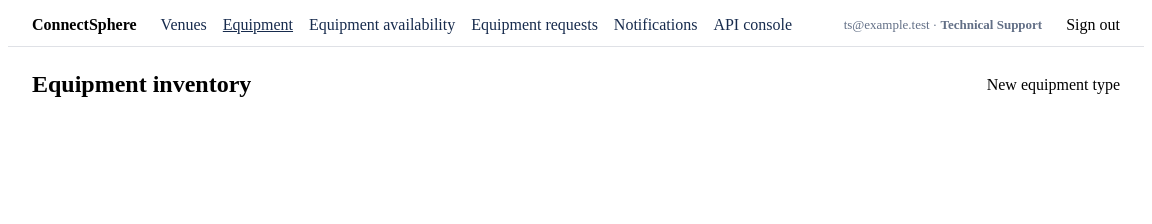
O2 equipment requests screen › is in Technical Support's navigation and is the only role's route
What coordinates should you click on to do the following:
click the link "Equipment requests"
I would click on:
 (534, 25)
Its box is [471,16,598,34].
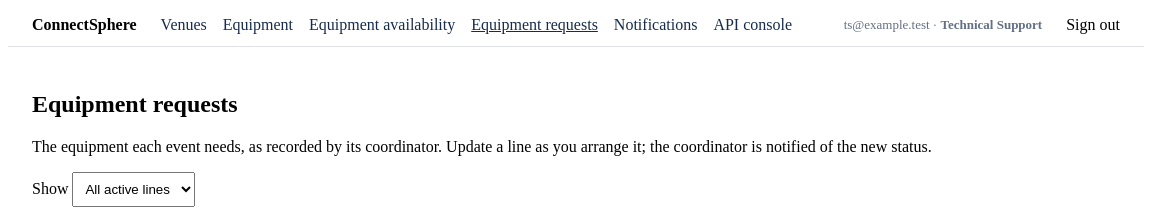
Expected: the heading "Equipment requests" is shown, [32,91,238,117]
